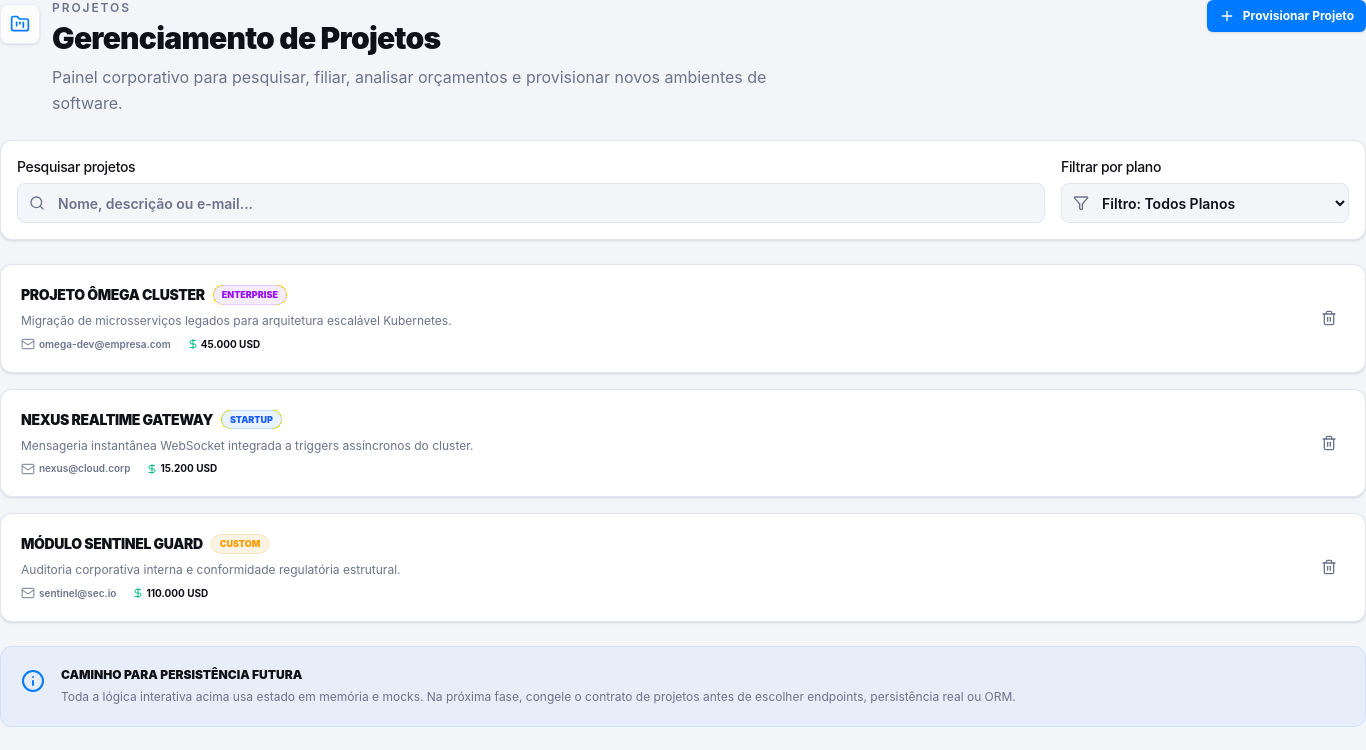
Scenario: FormShowcase project form › connects validation errors to project fields and terms
The image size is (1366, 750).
Click the button "Provisionar Projeto".
click(1286, 16)  # box [1207, 0, 1365, 32]
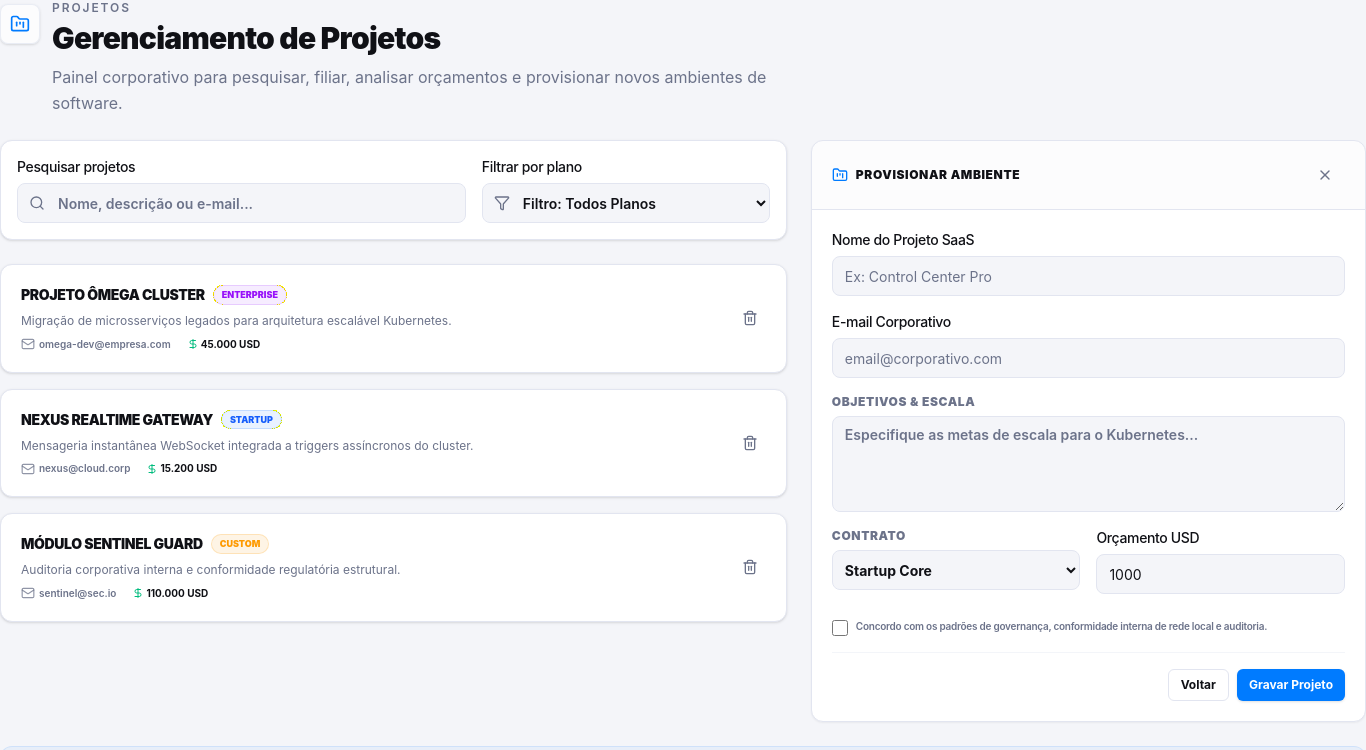
Click the button "Gravar Projeto".
click(1291, 685)  # box [1237, 669, 1345, 701]
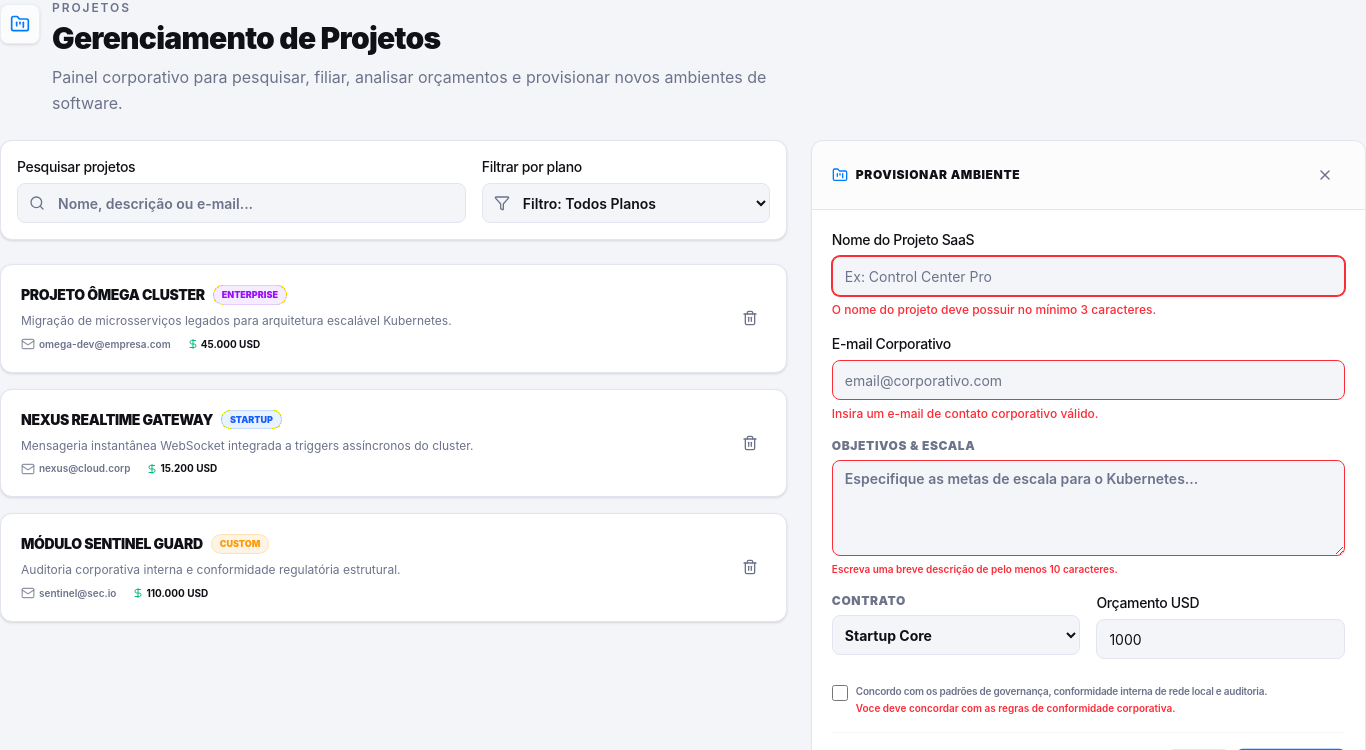
Expected: the text "O nome do projeto deve possuir no mínimo 3 caracteres." is shown, [832, 302, 1156, 317]
